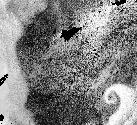CE: (102, 83, 124, 105)
